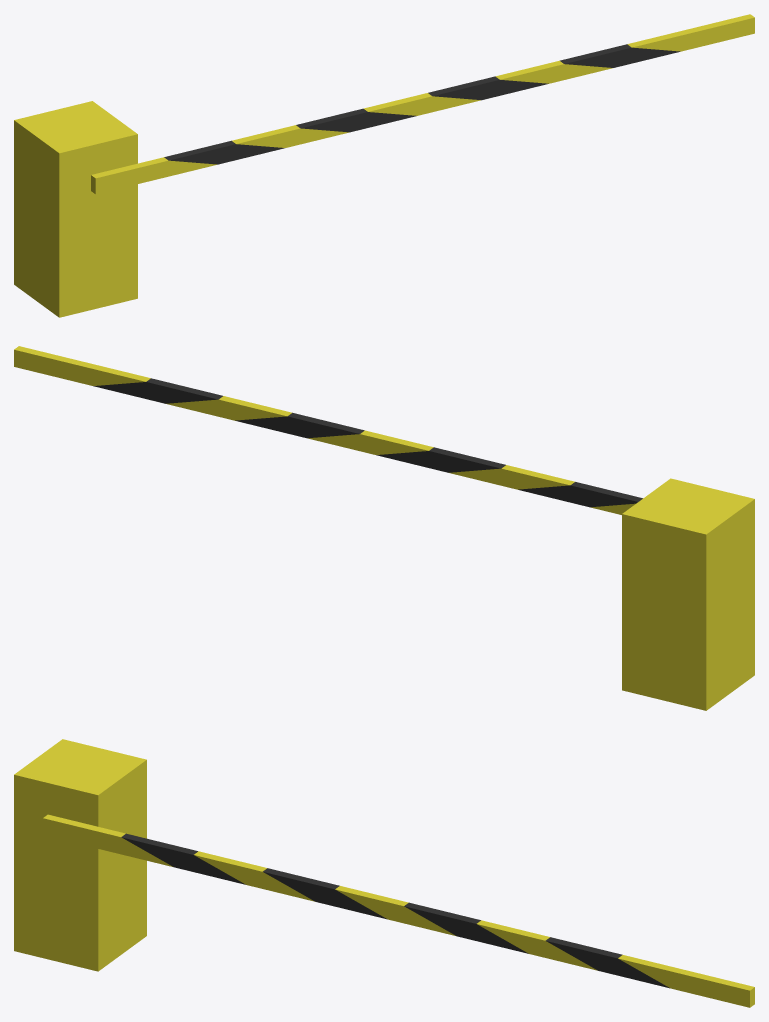
Rendered from PG_Barricade.fbx.
3 views of the same model, one above another, from view 1: azimuth 30°, elevation 25°; view 2: azimuth 150°, elevation 25°; view 3: azimuth 330°, elevation 25° (orthographic). The views are drawn at different scales.
Parts seen in each view (by area): view 1: Cube.001; view 2: Cube.001; view 3: Cube.001.
Part boxes in pixels (<box>): Cube.001: <box>14,14,754,317</box>; Cube.001: <box>14,346,754,710</box>; Cube.001: <box>14,739,754,1007</box>.
Bounding box in the file's own units: 440 × 100 × 55.14.
